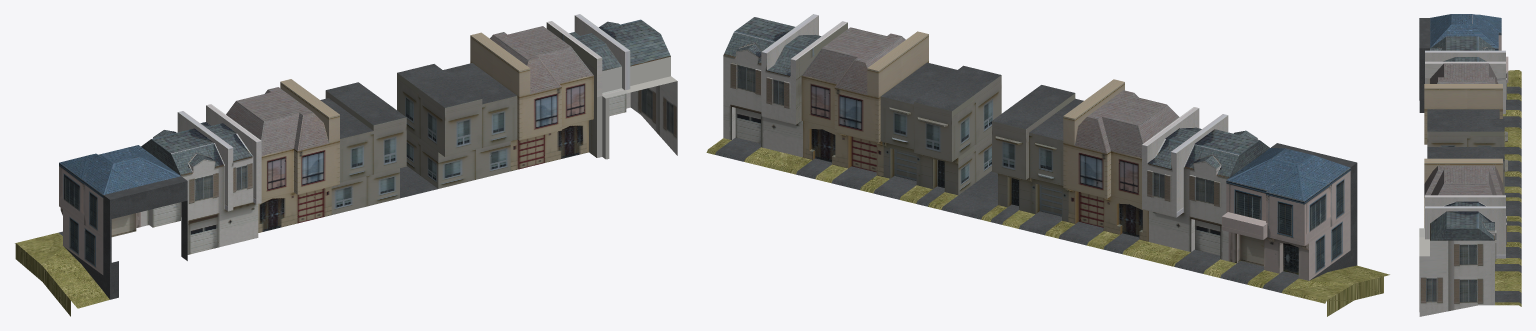
The model's file is sboxbld4_sfw02.obj.
3 renders of one model, left to right at view 1: azimuth 30°, elevation 25°; view 2: azimuth 150°, elevation 25°; view 3: azimuth 270°, elevation 25°, orthographic. The views are drawn at different scales.
Parts seen in each view (by area): view 1: sboxbld4_sfw02; view 2: sboxbld4_sfw02; view 3: sboxbld4_sfw02.
Boxes of the visible parts, x1,y1,x2,y2 form: sboxbld4_sfw02: (15,14,677,316); sboxbld4_sfw02: (706,14,1389,316); sboxbld4_sfw02: (1419,14,1521,316).
Size of the model in its own units: 56.02 by 12.49 by 10.25.
12 materials, 11 textured.
